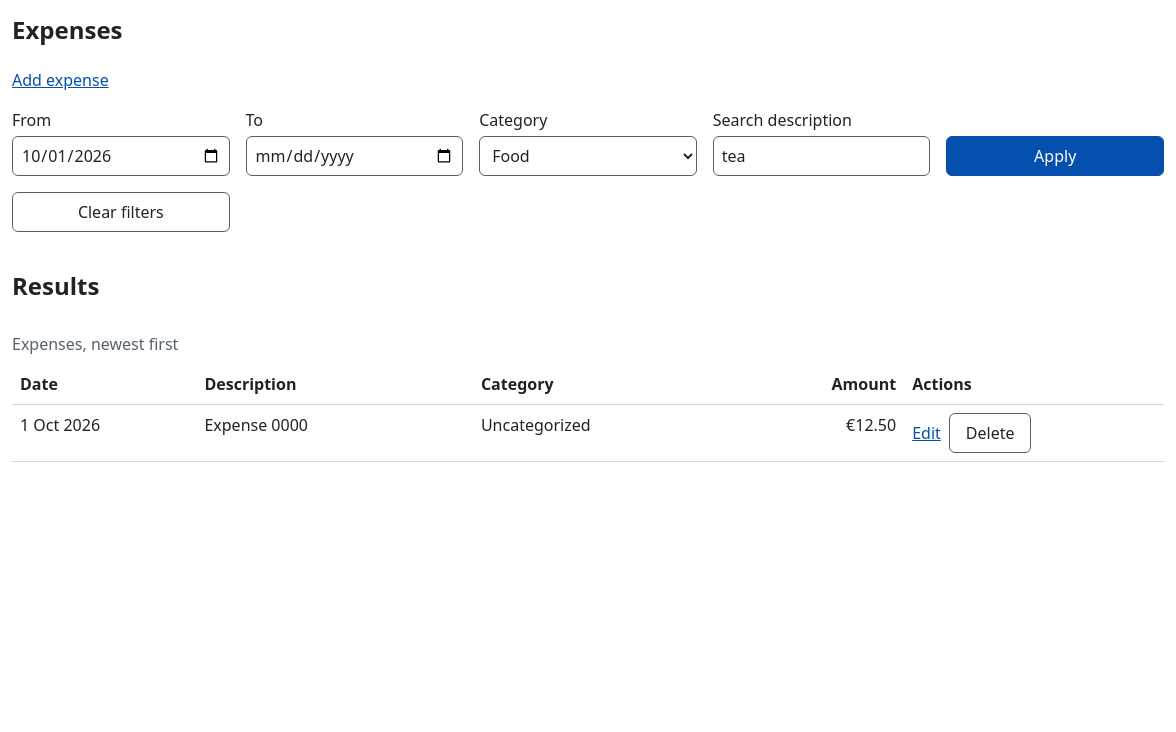
Test case: ExpensesView: empty and failed states › clears from the filter form too: empties the fields and the query, and announces
Click the button "Clear filters": (121, 212) [12, 192, 230, 232]
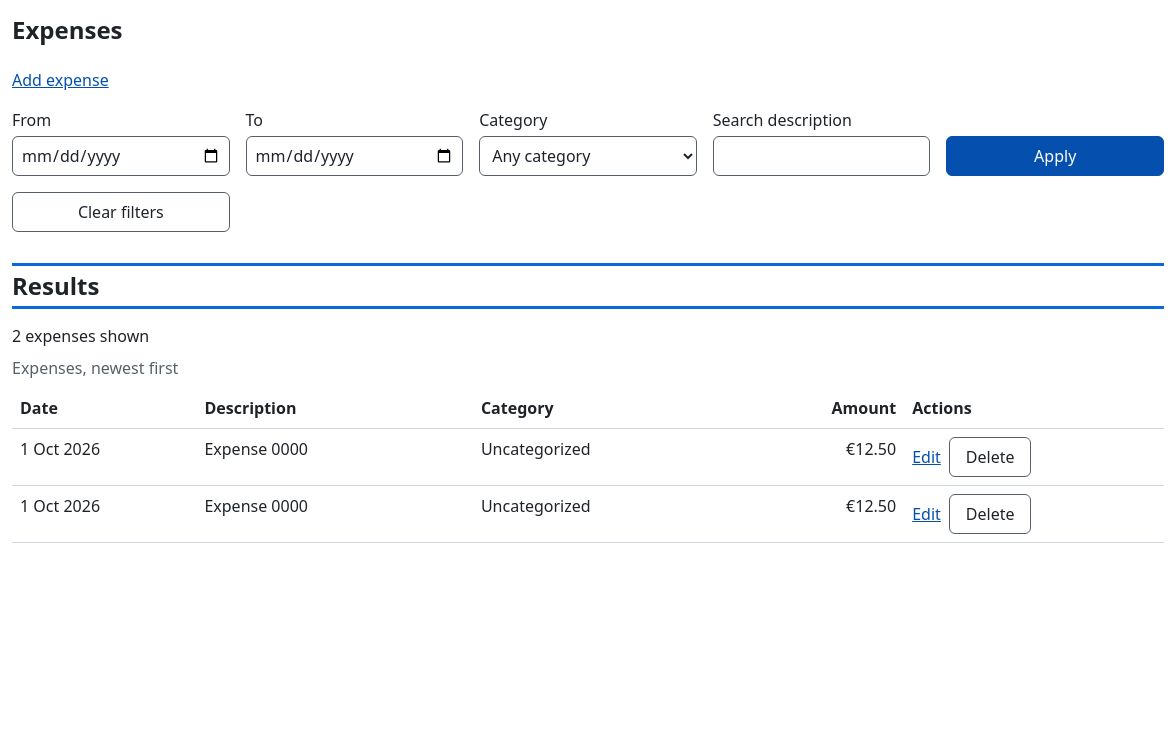
expect the date field with id "filter-from" is empty: met, box [12, 136, 230, 176]
expect the search field with id "filter-q" is empty: met, box [713, 136, 930, 176]
expect the dropdown with id "filter-category" shows "Any category": met, box [479, 136, 697, 176]
